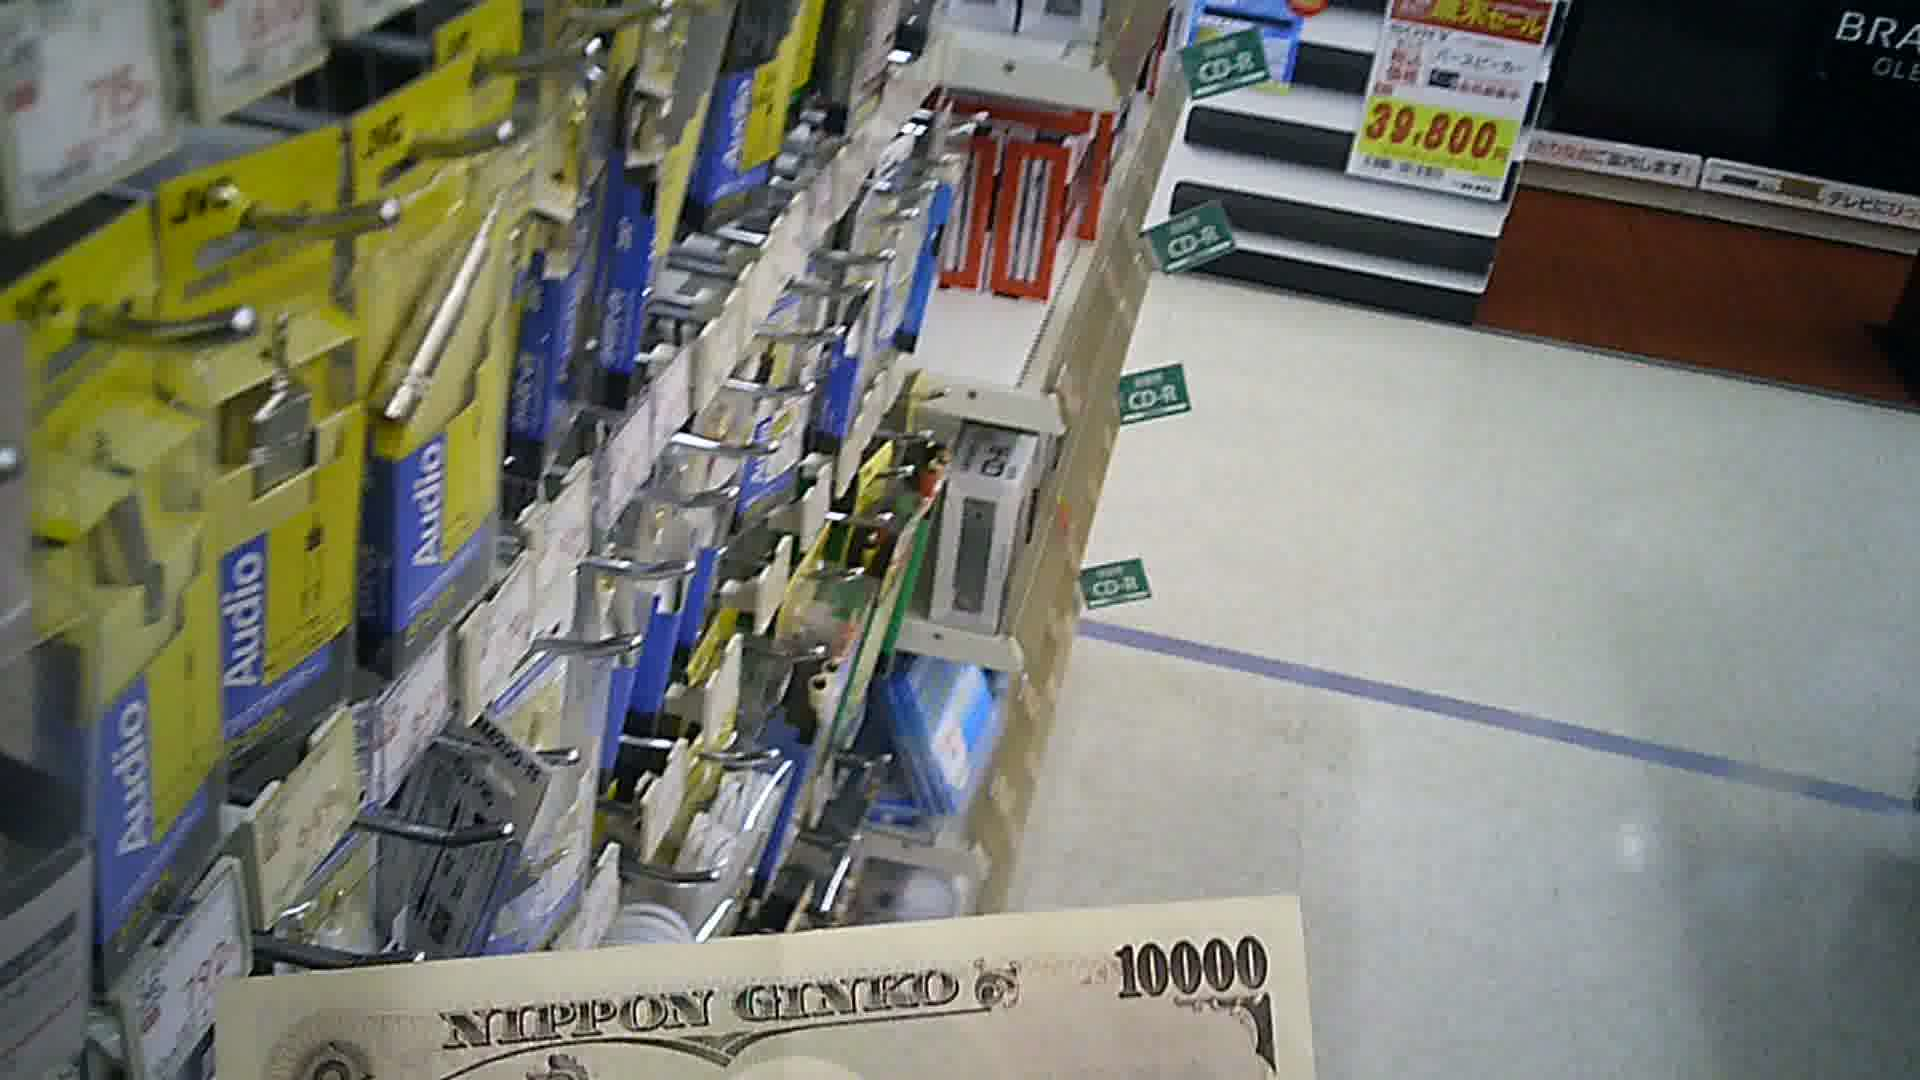10,000 Yen: (193, 915, 1342, 1079)
